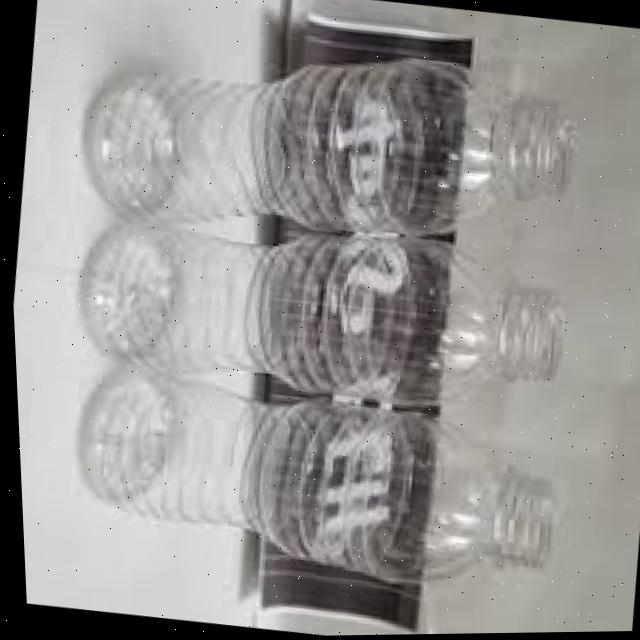Dry: (53, 342, 591, 640), (60, 194, 591, 443), (67, 36, 592, 260)
